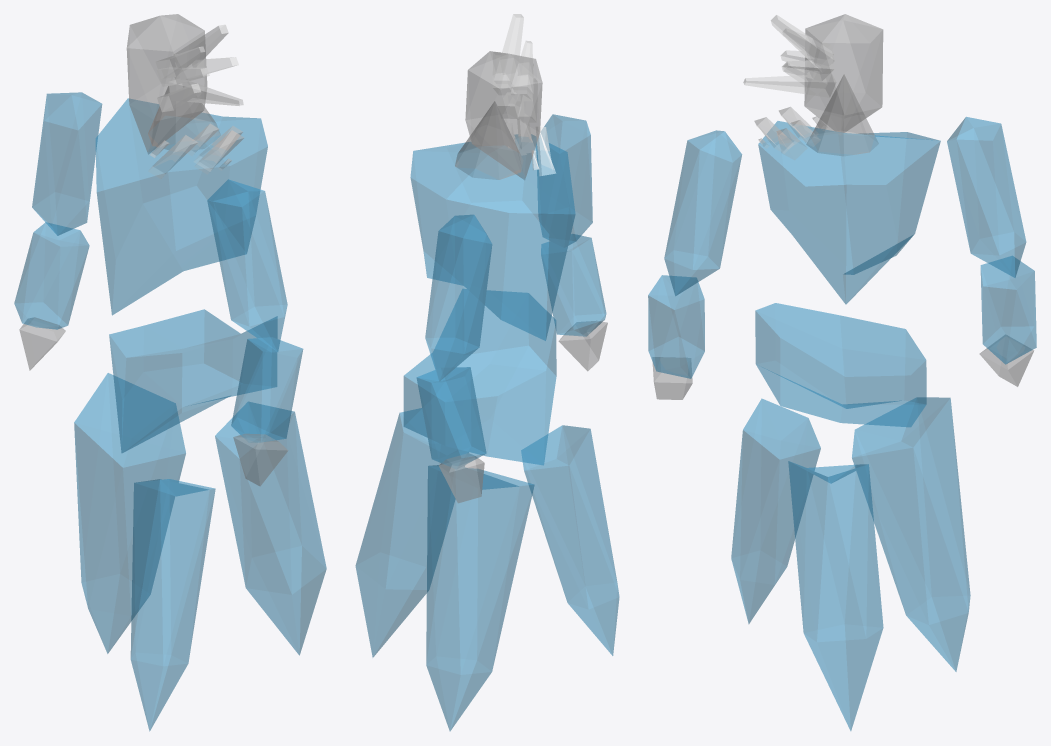
Rendered from ghostIdle12.obj.
3 views of the same model, side by side, from view 1: azimuth 30°, elevation 25°; view 2: azimuth 150°, elevation 25°; view 3: azimuth 270°, elevation 25° (orthographic). The views are drawn at different scales.
Parts seen in each view (by area): view 1: Cube.001_Cube.001, Icosphere.005, Icosphere.004, Cube_Cube.002, Icosphere.003, Icosphere.005_Icosphere.001, Icosphere.003_Icosphere.001, Icosphere.007_Icosphere.001, Icosphere.008_Icosphere.001, Icosphere.006_Icosphere.001, Cone_Cone.002, Cube.002_Cube.001 (+8 smaller); view 2: Cube.001_Cube.001, Cube_Cube.002, Icosphere.005, Icosphere.004, Icosphere.003, Icosphere.007_Icosphere.001, Icosphere.003_Icosphere.001, Icosphere.005_Icosphere.001, Icosphere.008_Icosphere.001, Icosphere.006_Icosphere.001, Cone_Cone.002, Cube.003_Cube.001 (+5 smaller); view 3: Cube.001_Cube.001, Icosphere.005, Icosphere.004, Cube_Cube.002, Icosphere.003, Icosphere.005_Icosphere.001, Icosphere.007_Icosphere.001, Icosphere.003_Icosphere.001, Icosphere.006_Icosphere.001, Icosphere.008_Icosphere.001, Cone_Cone.002, Cube.003_Cube.001 (+4 smaller).
Part boxes in pixels (left/top/right/bottom): Cube.001_Cube.001: left=95, top=98, right=267, bottom=315; Icosphere.005: left=74, top=373, right=185, bottom=653; Icosphere.004: left=215, top=402, right=326, bottom=655; Cube_Cube.002: left=109, top=309, right=277, bottom=452; Icosphere.003: left=130, top=479, right=215, bottom=731; Icosphere.005_Icosphere.001: left=207, top=179, right=287, bottom=351; Icosphere.003_Icosphere.001: left=126, top=14, right=207, bottom=154; Icosphere.007_Icosphere.001: left=32, top=92, right=102, bottom=235; Icosphere.008_Icosphere.001: left=14, top=222, right=89, bottom=329; Icosphere.006_Icosphere.001: left=231, top=337, right=303, bottom=442; Cone_Cone.002: left=148, top=86, right=220, bottom=149; Cube.002_Cube.001: left=233, top=434, right=288, bottom=486; Cube.001_Cube.001: left=410, top=134, right=575, bottom=340; Cube_Cube.002: left=403, top=289, right=556, bottom=465; Icosphere.005: left=426, top=465, right=534, bottom=731; Icosphere.004: left=355, top=408, right=468, bottom=657; Icosphere.003: left=521, top=425, right=619, bottom=655; Icosphere.007_Icosphere.001: left=425, top=214, right=492, bottom=381; Icosphere.003_Icosphere.001: left=465, top=51, right=542, bottom=179; Icosphere.005_Icosphere.001: left=536, top=114, right=592, bottom=247; Icosphere.008_Icosphere.001: left=416, top=367, right=486, bottom=469; Icosphere.006_Icosphere.001: left=541, top=234, right=606, bottom=336; Cone_Cone.002: left=455, top=101, right=520, bottom=179; Cube.003_Cube.001: left=439, top=453, right=484, bottom=503; Cube.001_Cube.001: left=758, top=121, right=940, bottom=304; Icosphere.005: left=852, top=397, right=970, bottom=671; Icosphere.004: left=788, top=461, right=883, bottom=730; Cube_Cube.002: left=755, top=303, right=926, bottom=427; Icosphere.003: left=731, top=398, right=820, bottom=623; Icosphere.005_Icosphere.001: left=664, top=130, right=741, bottom=295; Icosphere.007_Icosphere.001: left=947, top=117, right=1026, bottom=277; Icosphere.003_Icosphere.001: left=804, top=14, right=883, bottom=132; Icosphere.006_Icosphere.001: left=648, top=275, right=704, bottom=378; Icosphere.008_Icosphere.001: left=980, top=256, right=1036, bottom=364; Cone_Cone.002: left=806, top=74, right=878, bottom=155; Cube.003_Cube.001: left=979, top=335, right=1033, bottom=386.
Size of the model in its own units: 16.74 by 48.93 by 25.88.
